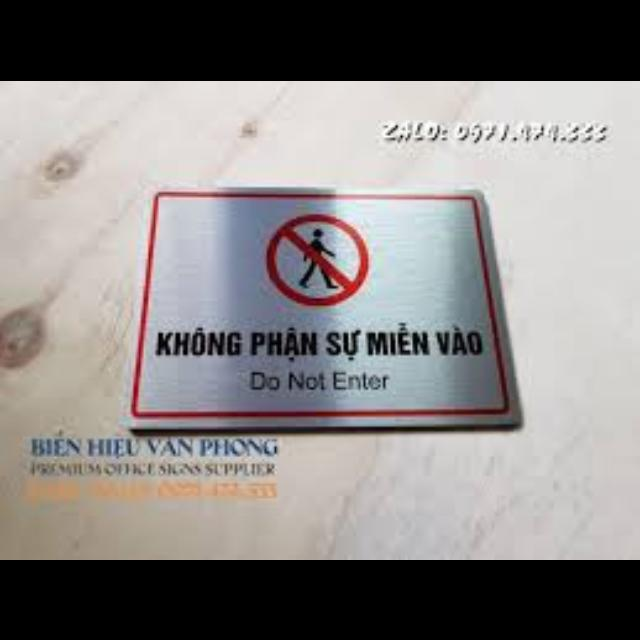khong phan su mien vao: (121, 186, 519, 426)
